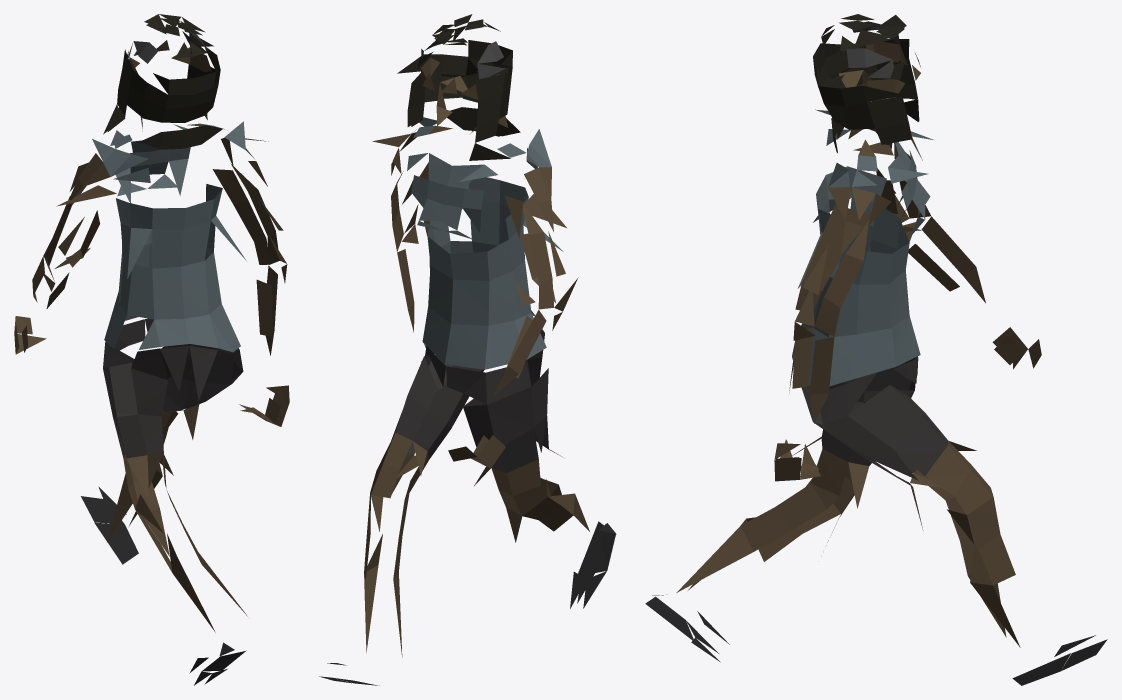
The model's file is personfar_5_w3.fbx.
The picture shows the model from 3 angles, left to right: view 1: azimuth 30°, elevation 25°; view 2: azimuth 150°, elevation 25°; view 3: azimuth 270°, elevation 25°; orthographic projection. The views are drawn at different scales.
Parts seen in each view (by area): view 1: BaseHuman.000; view 2: BaseHuman.000; view 3: BaseHuman.000.
Part boxes in pixels (<box>): BaseHuman.000: <box>14,14,289,685</box>; BaseHuman.000: <box>319,14,616,685</box>; BaseHuman.000: <box>645,14,1107,685</box>.
Size of the model in its own units: 0.3559 by 0.9653 by 0.611.
